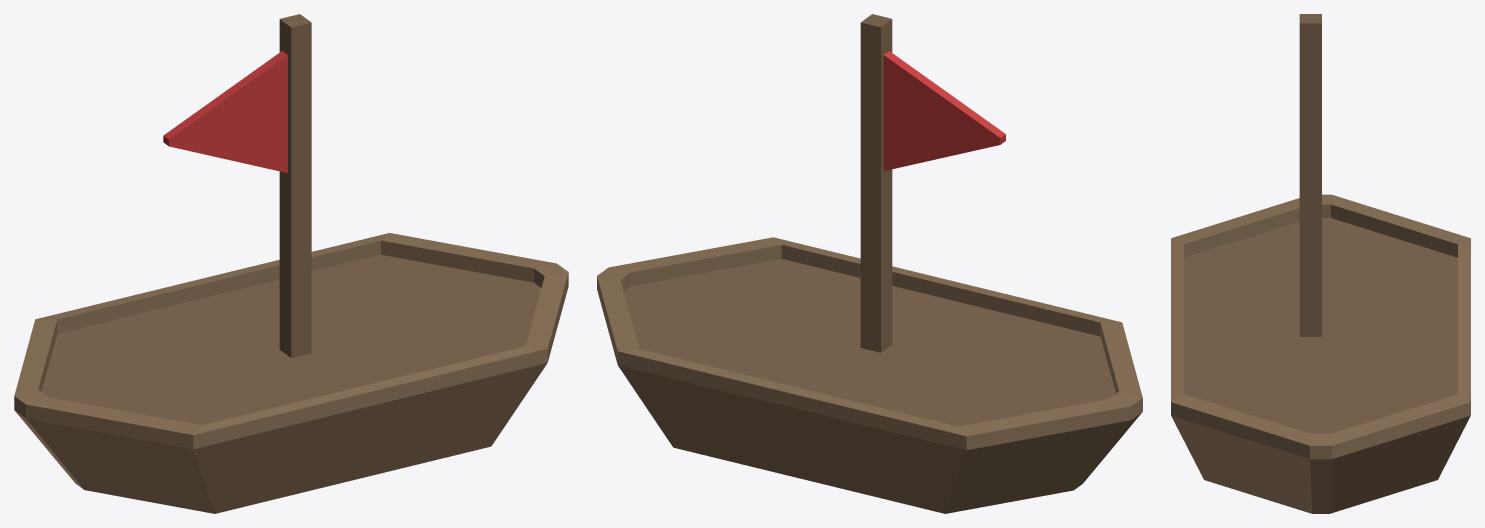
Rendered from boat.fbx.
3 views of the same model, side by side, from view 1: azimuth 30°, elevation 25°; view 2: azimuth 150°, elevation 25°; view 3: azimuth 270°, elevation 25° (orthographic). The views are drawn at different scales.
Parts seen in each view (by area): view 1: boat; view 2: boat; view 3: boat.
Boxes of the visible parts, <box> form: boat: <box>14,14,568,513</box>; boat: <box>597,14,1142,513</box>; boat: <box>1171,14,1470,513</box>.
Size of the model in its own units: 6.38 by 4.71 by 3.22.
